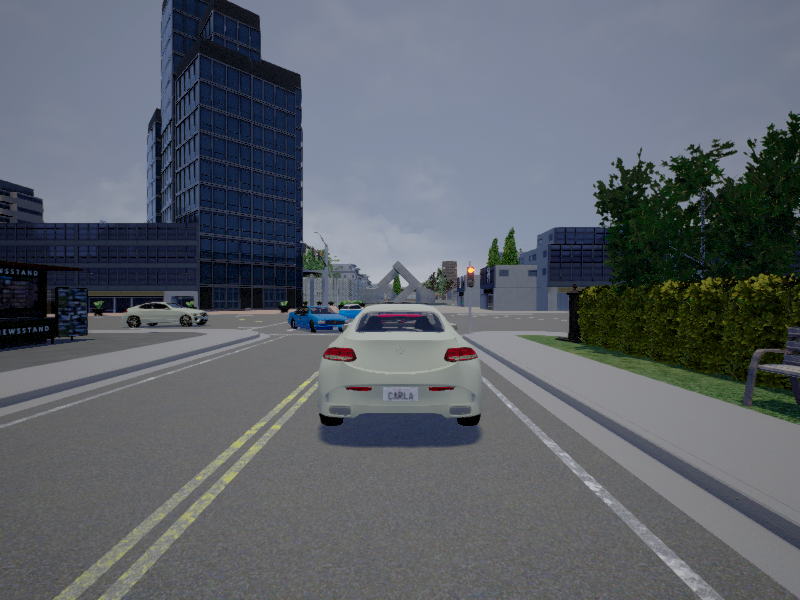Benign: (319, 304, 489, 429), (126, 300, 208, 327), (290, 307, 350, 335)
